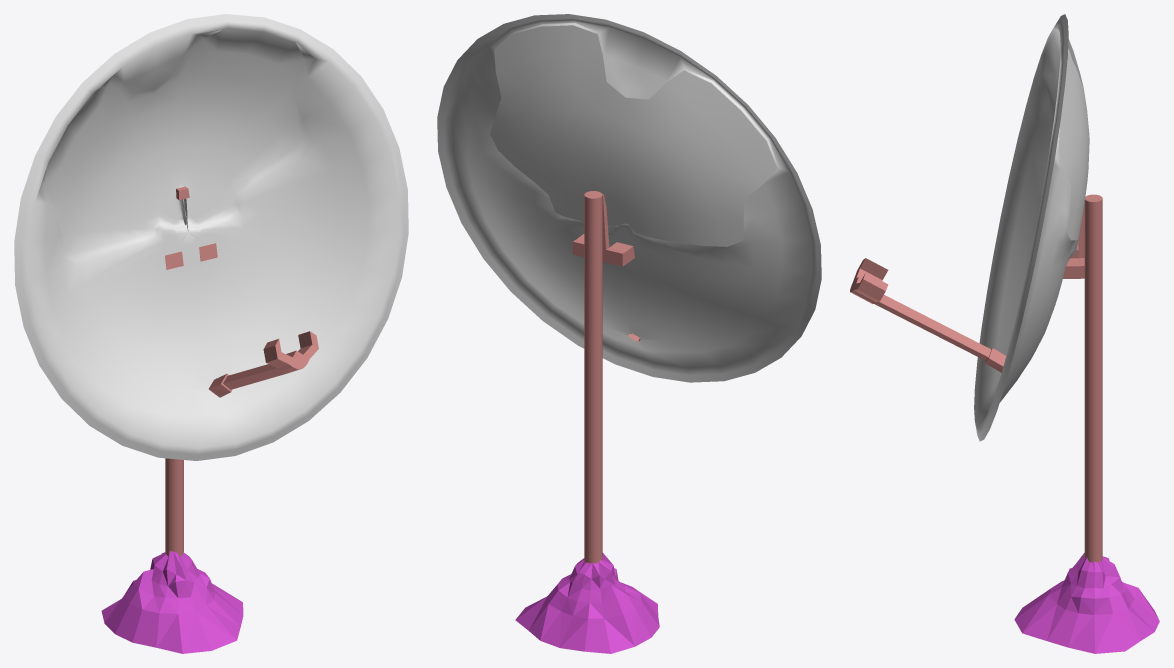
The model's file is desh.dae.
3 views of the same model, side by side, from view 1: azimuth 30°, elevation 25°; view 2: azimuth 150°, elevation 25°; view 3: azimuth 270°, elevation 25° (orthographic). The views are drawn at different scales.
Visible parts, largest first — view 1: Circle, Circle.003; view 2: Circle, Circle.003; view 3: Circle.003, Circle.
Boxes of the visible parts, x1,y1,x2,y2 form: Circle: [14, 14, 408, 460]; Circle.003: [101, 186, 318, 653]; Circle: [437, 14, 821, 382]; Circle.003: [490, 25, 777, 653]; Circle.003: [850, 39, 1159, 653]; Circle: [974, 14, 1076, 441].
Size of the model in its own units: 1.64 by 1.16 by 2.43.
